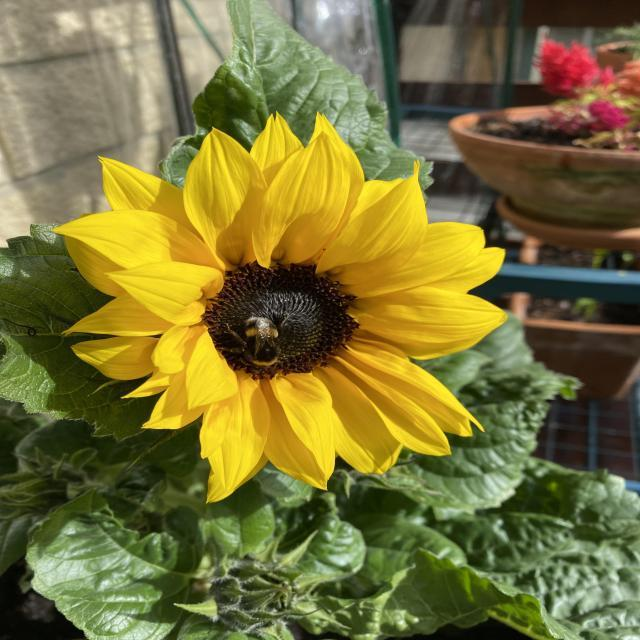sunflower: (51, 110, 508, 503)
